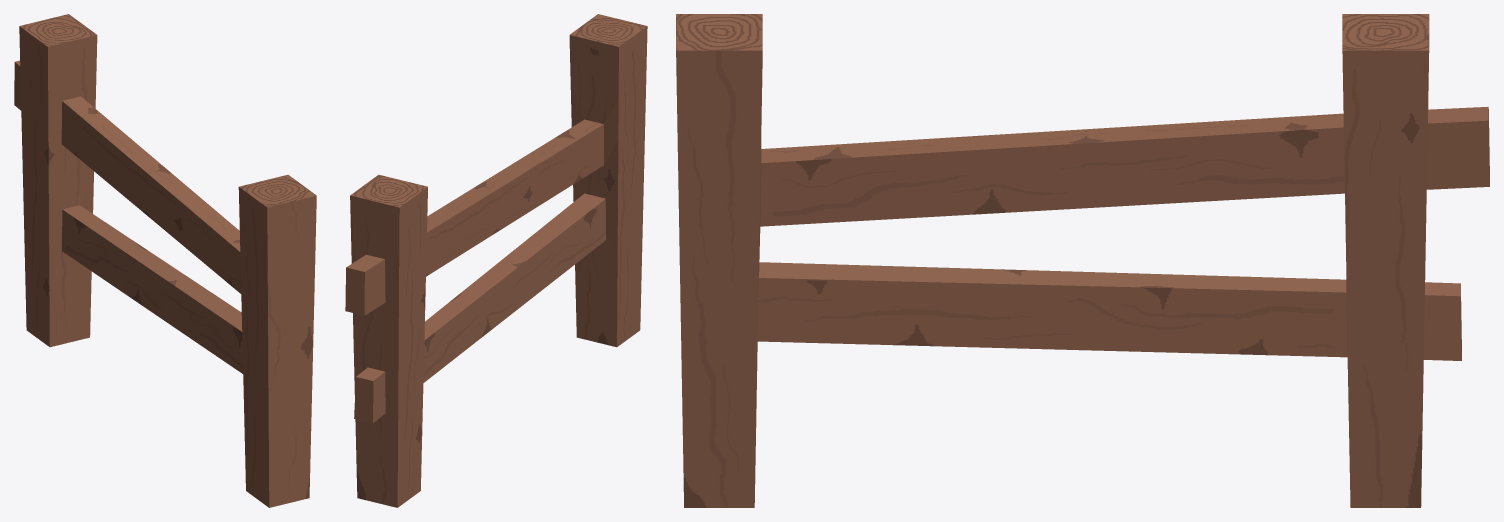
The model's file is brkn-fence-end2.2.fbx.
The picture shows the model from 3 angles, left to right: view 1: azimuth 30°, elevation 25°; view 2: azimuth 150°, elevation 25°; view 3: azimuth 270°, elevation 25°; orthographic projection. The views are drawn at different scales.
Parts seen in each view (by area): view 1: Cube; view 2: Cube; view 3: Cube.
Part boxes in pixels (left/top/right/bottom): Cube: left=14, top=14, right=316, bottom=507; Cube: left=345, top=14, right=647, bottom=507; Cube: left=676, top=14, right=1489, bottom=507.
Size of the model in its own units: 70.42 by 413 by 661.
